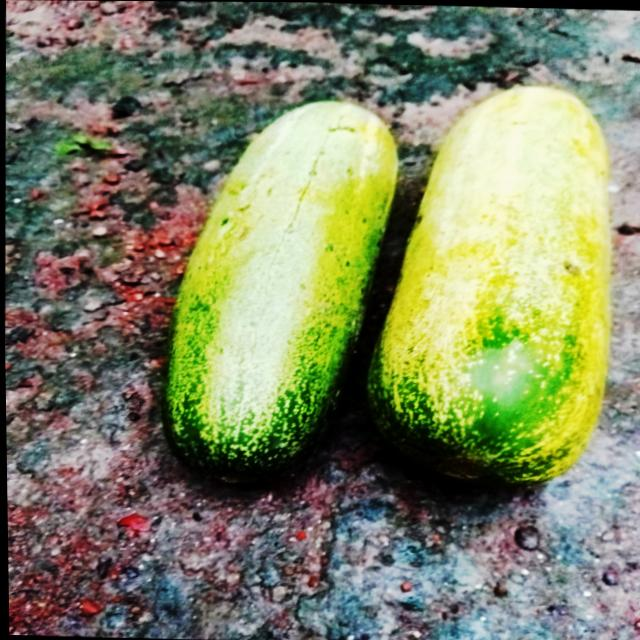Fresh-Cucumber: (356, 75, 619, 500), (153, 92, 405, 494)
